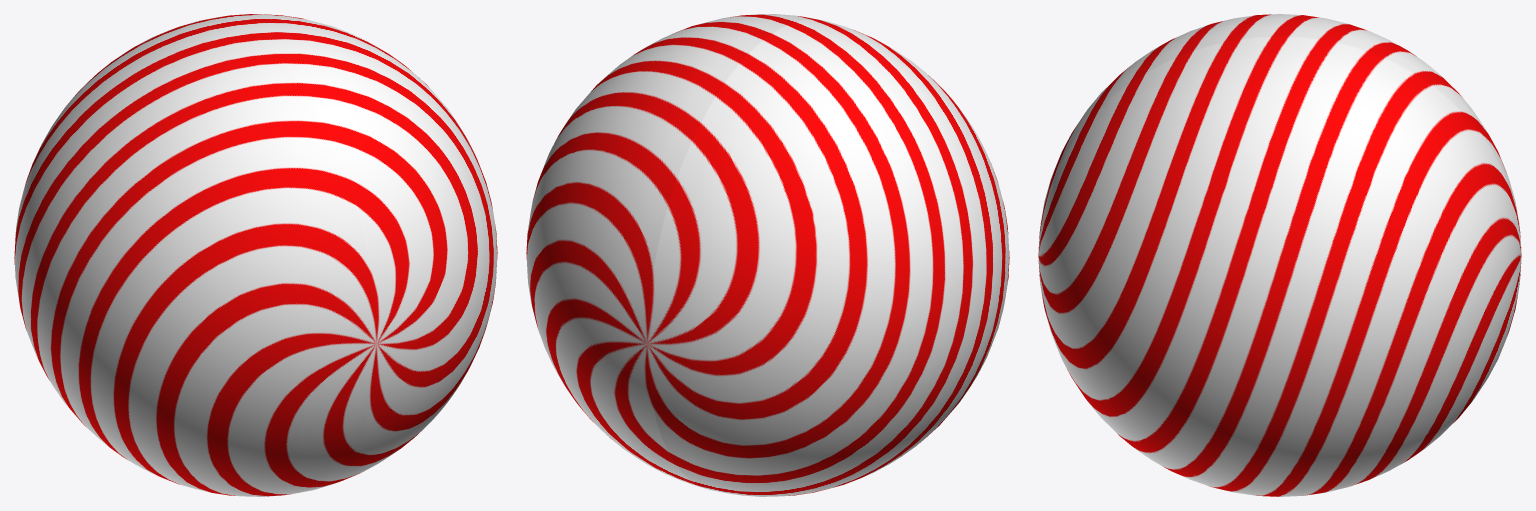
File: CandyA.glb
3 renders of one model, left to right at view 1: azimuth 30°, elevation 25°; view 2: azimuth 150°, elevation 25°; view 3: azimuth 270°, elevation 25°, orthographic.
Visible parts, largest first — view 1: Candy_R, Candy_L; view 2: Candy_R, Candy_L; view 3: Candy_L, Candy_R.
Boxes of the visible parts, bbox=[...] form: Candy_R: bbox=[14, 19, 376, 496]; Candy_L: bbox=[200, 14, 497, 489]; Candy_R: bbox=[647, 19, 1009, 496]; Candy_L: bbox=[526, 14, 823, 489]; Candy_L: bbox=[1038, 36, 1521, 496]; Candy_R: bbox=[1039, 14, 1520, 231].
Size of the model in its own units: 1.71 by 1.71 by 1.71.
1 material, 1 textured.
